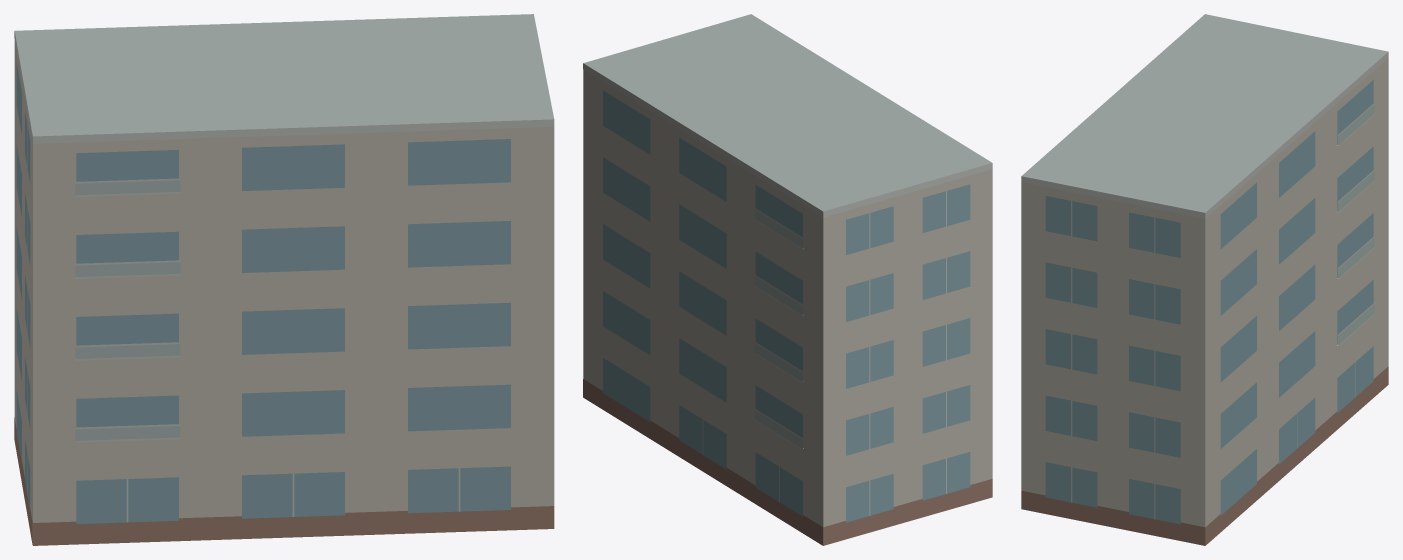
File: survey-upis-32634263.glb
The picture shows the model from 3 angles, left to right: view 1: azimuth 30°, elevation 25°; view 2: azimuth 150°, elevation 25°; view 3: azimuth 270°, elevation 25°; orthographic projection. The views are drawn at different scales.
Parts seen in each view (by area): view 1: survey-upis-32634263.tmp; view 2: survey-upis-32634263.tmp; view 3: survey-upis-32634263.tmp.
Part boxes in pixels (x1,y1,x2,y2): survey-upis-32634263.tmp: (14, 14, 554, 545); survey-upis-32634263.tmp: (583, 14, 992, 545); survey-upis-32634263.tmp: (1021, 14, 1388, 545).
Bounding box in the file's own units: 17.18 × 13.4 × 13.4.
